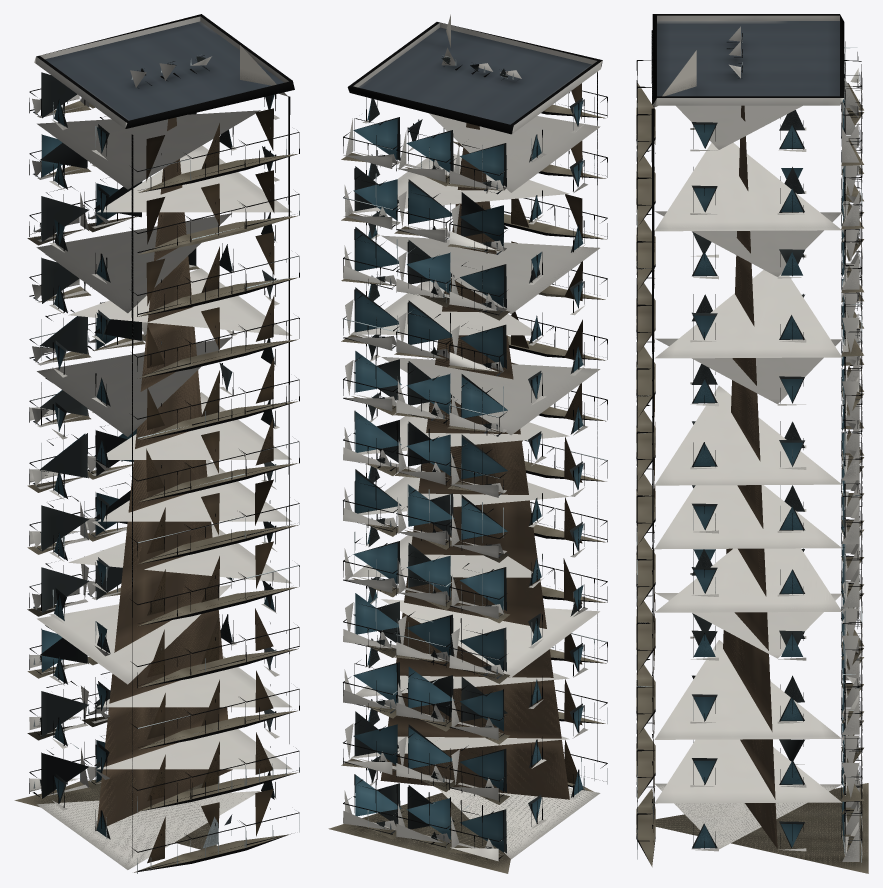
The model's file is residential_009.lod2.obj.
The picture shows the model from 3 angles, left to right: view 1: azimuth 30°, elevation 25°; view 2: azimuth 150°, elevation 25°; view 3: azimuth 270°, elevation 25°; orthographic projection. The views are drawn at different scales.
Parts seen in each view (by area): view 1: residential_009; view 2: residential_009; view 3: residential_009.
Boxes of the visible parts, x1=… form: residential_009: x1=14, y1=14, x2=299, y2=873; residential_009: x1=328, y1=14, x2=607, y2=873; residential_009: x1=636, y1=14, x2=868, y2=873.
Bounding box in the file's own units: 8.27 × 33.62 × 8.8.
1 material, 1 textured.
